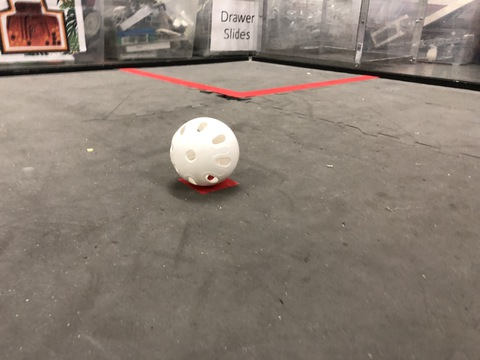ball: (147, 111, 253, 200)
